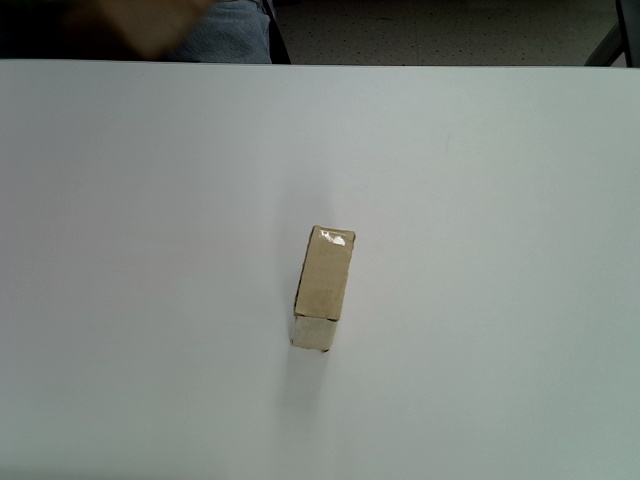normal: (290, 224, 356, 353)
